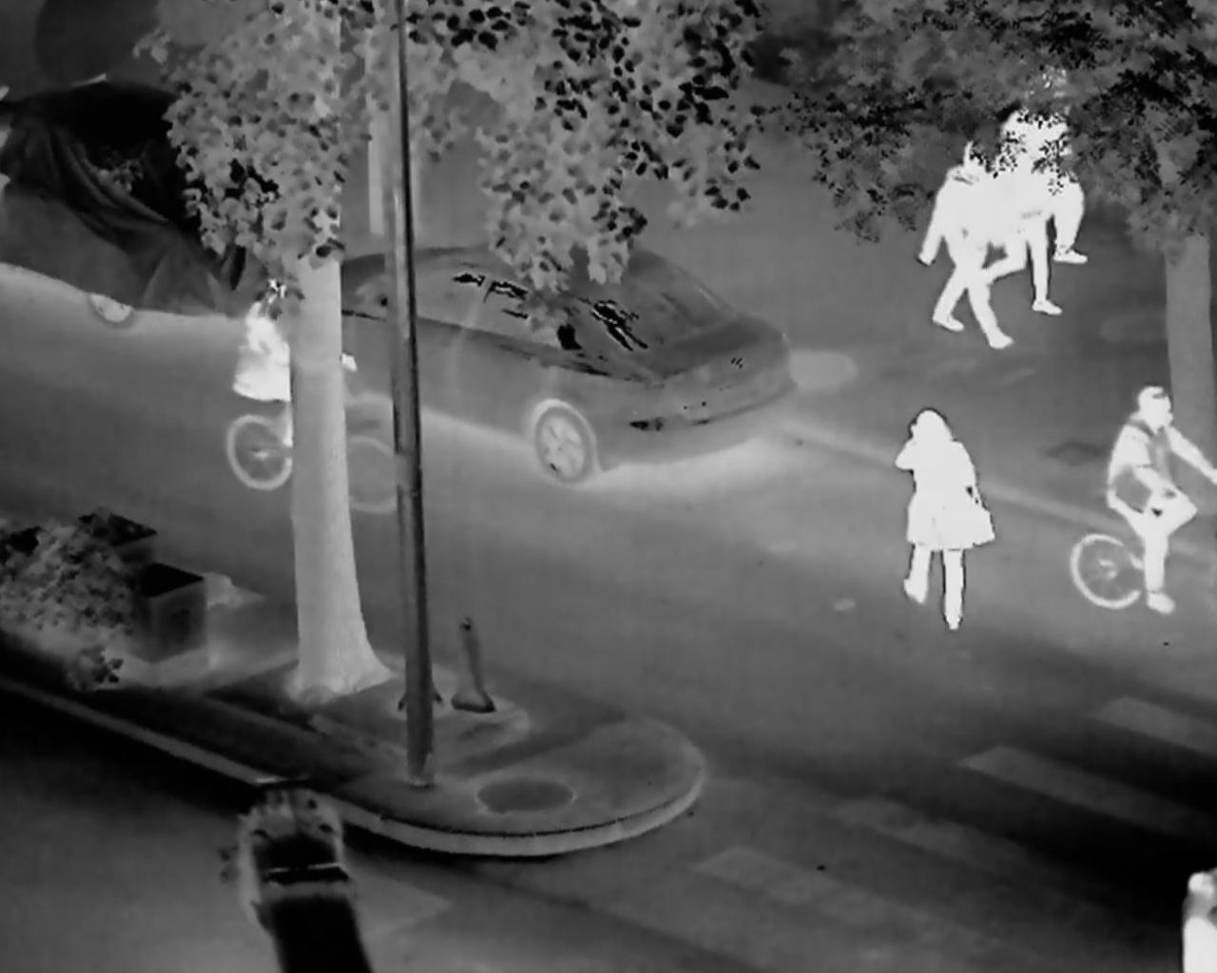person: (1088, 361, 1217, 620), (223, 278, 373, 481), (873, 392, 994, 639), (984, 77, 1072, 346), (923, 136, 999, 357)
